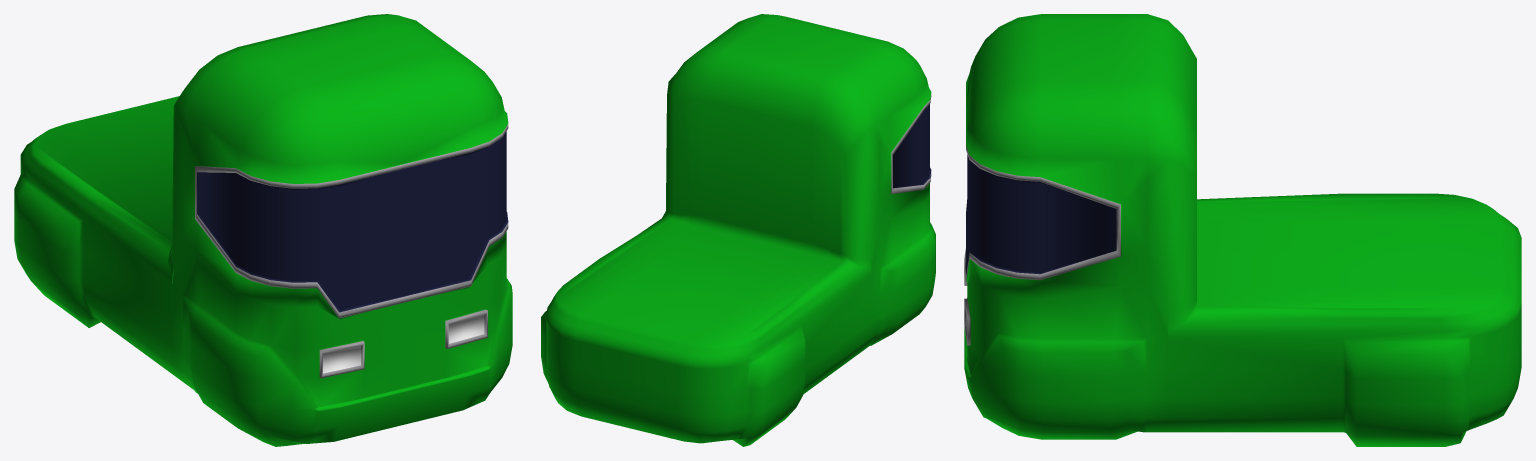
The model's file is Truck2.fbx.
The picture shows the model from 3 angles, left to right: view 1: azimuth 30°, elevation 25°; view 2: azimuth 150°, elevation 25°; view 3: azimuth 270°, elevation 25°; orthographic projection. The views are drawn at different scales.
Parts seen in each view (by area): view 1: Cube; view 2: Cube; view 3: Cube.
Boxes of the visible parts, box(x1,y1,x2,y2) form: Cube: box(14, 14, 512, 446); Cube: box(541, 14, 935, 446); Cube: box(964, 14, 1521, 446).
Size of the model in its own units: 1.22 by 1.41 by 2.1.
